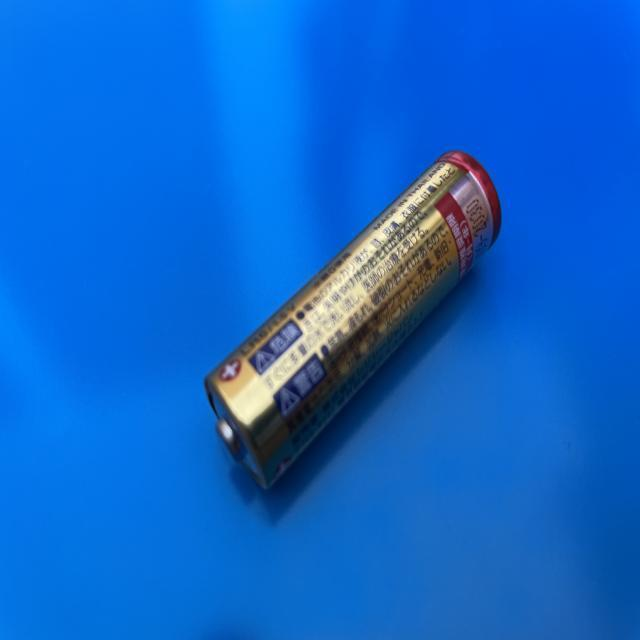AA: (201, 144, 504, 494)
